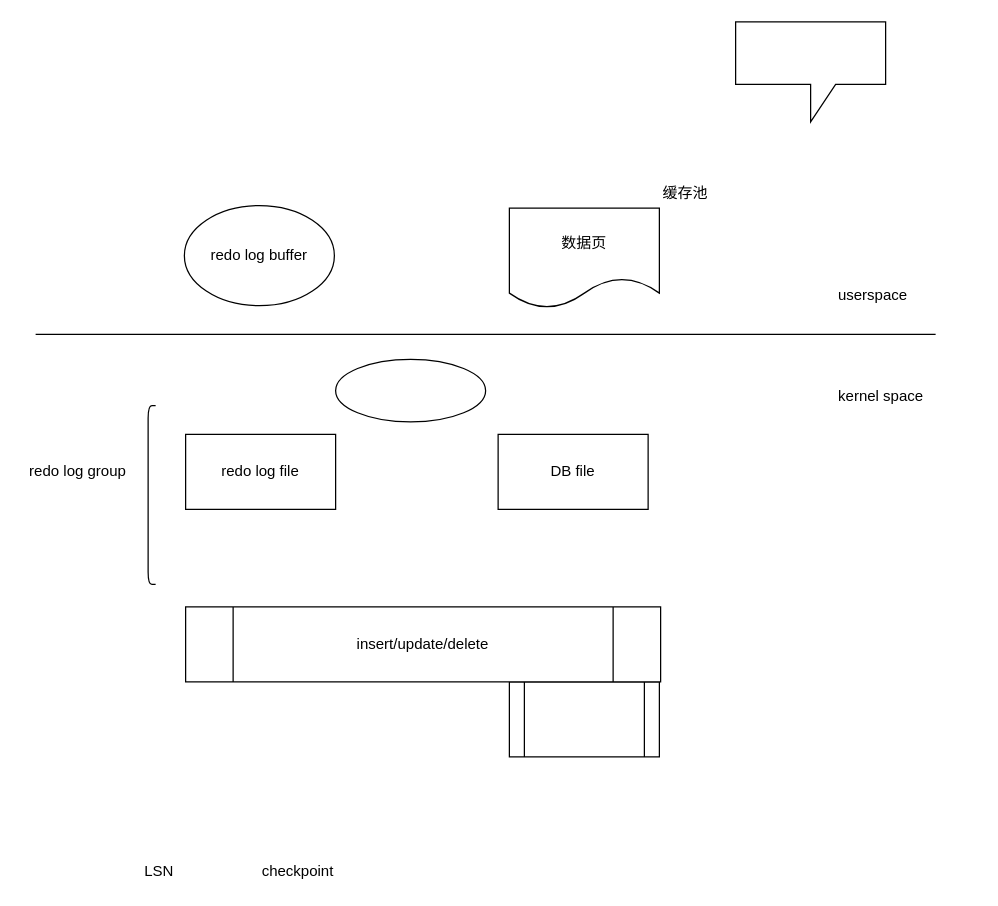
Image size: 998x906. Some labels were removed from this diagram. Here are the shapes that lost their labels. From the top down, the centre of each, then its label:
At point (810, 71): "fwrite有用户态缓存，甚至没有到os buffer这一层；".
At point (410, 390): "os buffer".
At point (583, 719): "commit".
